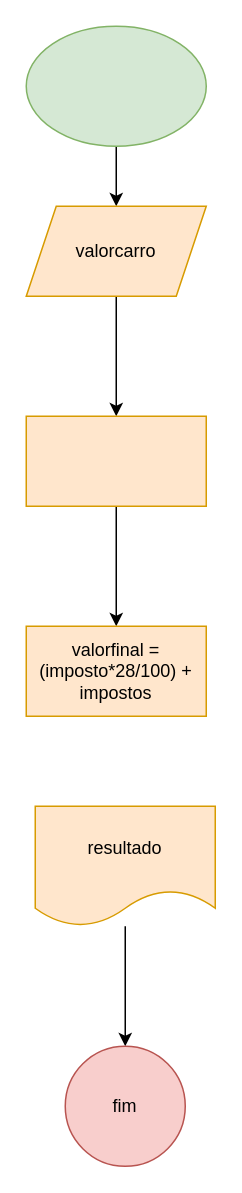
This 242x1193 diagram has some shape labels left out. The shapes that lost their labels are listed below. From the top down, each one's centre as x and y in pixels, then its label:
the point at 115,85: inicio
the point at 115,460: imposto = (valorcarro*45/100) + valor do carro
